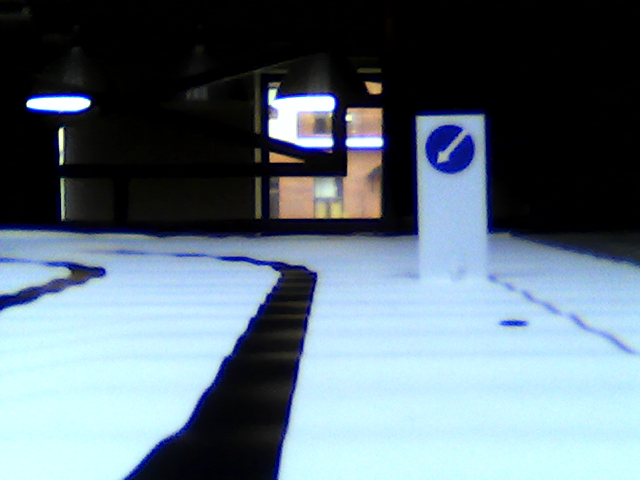prep: (423, 123, 477, 176)
